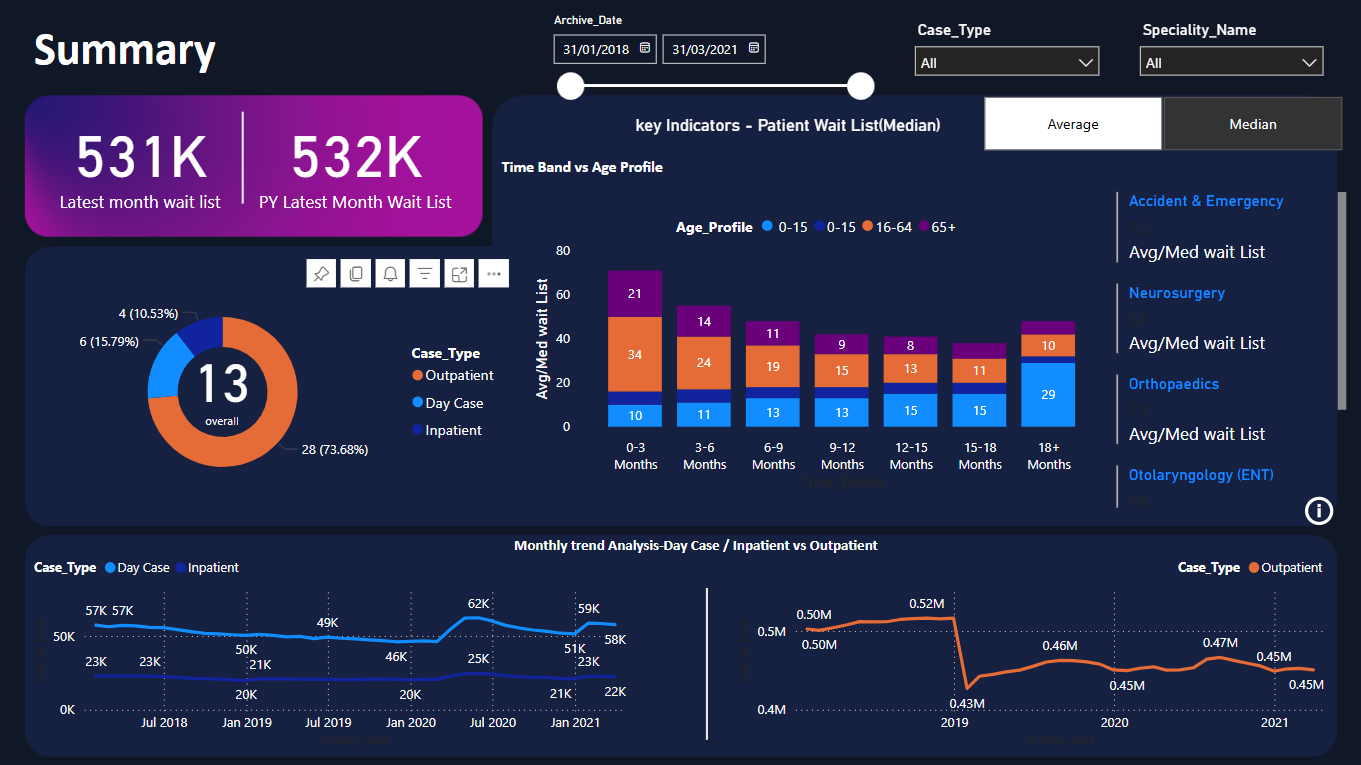

Layout of this report page (visuals, bound fields, positions):
{"tool":"powerbi","page":{"name":"Summary","canvas":[1280,720],"ordinal":0},"visuals":[{"type":"card","fields":{"Values":["All_Data.Latest month wait list"]},"box":[32,96,208,112],"z":0},{"type":"card","fields":{"Values":["All_Data.PY Latest Month Wait List"]},"box":[240,96,192,112],"z":1000},{"type":"slicer","fields":{"Values":["Calculation Method.Calc Method"]},"box":[896.2,85,383.8,63.8],"z":2000},{"type":"donutChart","fields":{"Category":["All_Data.Case_Type"],"Y":["All_Data.Avg/Med wait List"]},"box":[32,272,448,192],"z":3000},{"type":"columnChart","fields":{"Y":["All_Data.Avg/Med wait List"],"Category":["All_Data.Time_Bands"],"Series":["All_Data.Age_Profile"]},"box":[496.2,192.5,543.8,272.5],"z":4000},{"type":"multiRowCard","fields":{"Values":["All_Data.Speciality_Name","All_Data.Avg/Med wait List"]},"box":[1040.5,175.7,224.3,304.1],"z":5000},{"type":"lineChart","fields":{"Category":["All_Data.Archive_Date"],"Y":["Sum(All_Data.Total)"],"Series":["All_Data.Case_Type"]},"box":[32,512,576,192],"z":6000},{"type":"lineChart","fields":{"Category":["All_Data.Archive_Date"],"Y":["Sum(All_Data.Total)"],"Series":["All_Data.Case_Type"]},"box":[688,512,560,192],"z":7000},{"type":"slicer","fields":{"Values":["All_Data.Archive_Date"]},"box":[508.3,9.5,320.2,96.4],"z":8000},{"type":"slicer","fields":{"Values":["All_Data.Case_Type"]},"box":[847.5,16.2,192.5,63.8],"z":9000},{"type":"slicer","fields":{"Values":["All_Data.Speciality_Name"]},"box":[1057.5,16.2,191.2,63.8],"z":10000},{"type":"textbox","box":[32,16,192,64],"z":11000},{"type":"card","fields":{"Values":["All_Data.Avg/Med wait List"]},"box":[168,304,88,112],"z":12000},{"type":"shape","box":[88.7,105.6,285.9,85.9],"z":13000},{"type":"textbox","box":[479.7,495.9,464.9,40.5],"z":14000},{"type":"textbox","box":[467.9,143.6,379.7,44.6],"z":15000},{"type":"shape","box":[500,550,328.4,141.9],"z":16000},{"type":"card","fields":{"Values":["All_Data.Dynamic Waiting List"]},"box":[320,62.7,840,113.3],"z":17000},{"type":"actionButton","box":[1216.7,460.7,47.6,35.7],"z":18000}]}

Visuals, with their boxes in screenshot pixels (x1, y1, x2, y2), scaled from the page's 1280x720 canvas onto the 1361x765 screenshot:
card - All_Data.Latest month wait list: bbox=[34, 102, 255, 221]
card - All_Data.PY Latest Month Wait List: bbox=[255, 102, 459, 221]
slicer - Calculation Method.Calc Method: bbox=[953, 90, 1360, 158]
donutChart - All_Data.Case_Type x All_Data.Avg/Med wait List: bbox=[34, 289, 510, 493]
columnChart - All_Data.Avg/Med wait List x All_Data.Time_Bands: bbox=[528, 205, 1106, 494]
multiRowCard - All_Data.Speciality_Name x All_Data.Avg/Med wait List: bbox=[1106, 187, 1345, 510]
lineChart - All_Data.Archive_Date x Sum(All_Data.Total): bbox=[34, 544, 646, 748]
lineChart - All_Data.Archive_Date x Sum(All_Data.Total): bbox=[732, 544, 1327, 748]
slicer - All_Data.Archive_Date: bbox=[540, 10, 881, 113]
slicer - All_Data.Case_Type: bbox=[901, 17, 1106, 85]
slicer - All_Data.Speciality_Name: bbox=[1124, 17, 1328, 85]
textbox: bbox=[34, 17, 238, 85]
card - All_Data.Avg/Med wait List: bbox=[179, 323, 272, 442]
shape: bbox=[94, 112, 398, 203]
textbox: bbox=[510, 527, 1004, 570]
textbox: bbox=[498, 153, 901, 200]
shape: bbox=[532, 584, 881, 735]
card - All_Data.Dynamic Waiting List: bbox=[340, 67, 1233, 187]
actionButton: bbox=[1294, 489, 1344, 527]
